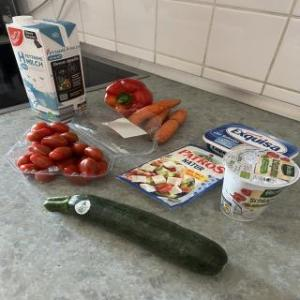carrot: (123, 95, 182, 129), (153, 106, 190, 145), (142, 106, 175, 140)
tomato: (3, 114, 116, 188)
zucchini: (40, 189, 233, 291)
